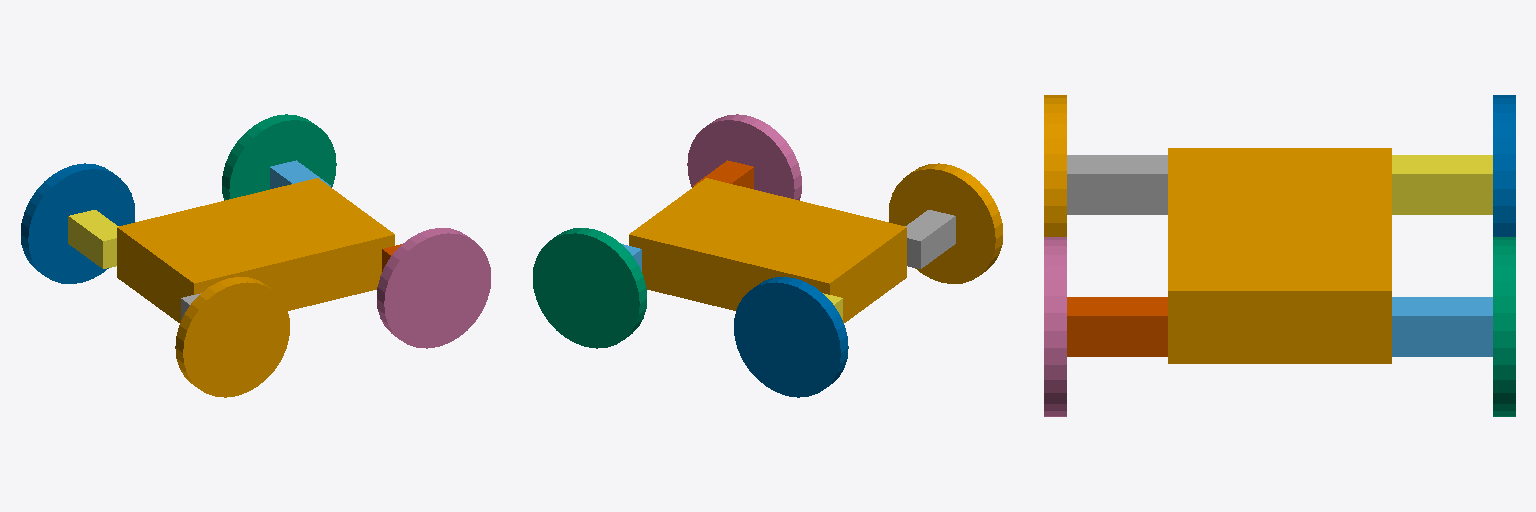
The robot description file, URDF, robot "edu_rover":
<?xml version = "1.0"?>
<robot name = "edu_rover">
    <link name = "base_link">
        <visual>
        <origin xyz ="0 0 0" rpy = "0 0 0"/>
        <geometry>
            <box size = "0.15 0.1 0.036"/>
        </geometry>
        </visual>
    </link>
<!-- left_front ()-[III]-()
                   [III]
                   [III]
                ()-[III]-()
-->
    <link name = "left_front_knuckle">
        <visual>
        <origin xyz = "0 0.025 0" rpy = "0 0 0"/>
        <geometry>
            <box size = "0.02 0.05 0.02" />
        </geometry>
        </visual>
    </link>

    <joint name = "left_front_knuckle_joint" type = "revolute">
        <parent link = "base_link"/>
        <child link = "left_front_knuckle"/>
        <origin xyz = "0.075 0.05 0" rpys = "0 0 0 "/>
        <limit lower = "-1.5708" upper = "0.52" effort = "1" velocity = "0.005"/>
        <axis xyz = "0 0 1"/> 
    </joint>

    <link name = "left_front_wheel">
    <visual>
    <origin xyz = "0 0 0" rpy = "1.5708 0 0"/>
    <geometry>
        <cylinder radius = "0.04" length = "0.01"/>
    </geometry>
    </visual>
    </link>

    <joint name = "left_front_wheel_joint" type = "continuous">
    <parent link = "left_front_knuckle"/>
    <child link = "left_front_wheel"/>
    <origin xyz = "0 0.05 0" rpy = "0 0 0" />
    <limit effort = "1" velocity = "0.05" />
    <axis xyz = " 0 1 0"/>
    </joint>

    <!--        ()-[III]-()
                   [III]
                   [III]
      left_front()-[III]-()
-->
    <link name = "left_back_knuckle">
        <visual>
        <origin xyz = "0 0.025 0" rpy = "0 0 0"/>
        <geometry>
            <box size = "0.02 0.05 0.02" />
        </geometry>
        </visual>
    </link>

    <joint name = "left_back_knuckle_joint" type = "revolute">
        <parent link = "base_link"/>
        <child link = "left_back_knuckle"/>
        <origin xyz = "-0.075 0.05 0" rpys = "0 0 0"/>
        <limit lower = "1.5708" upper = "-0.52" effort = "1" velocity = "0.005"/>
        <axis xyz = "0 0 1"/> 
    </joint>

    <link name = "left_back_wheel">
    <visual>
    <origin xyz = "0 0 0" rpy = "1.5708 0 0"/>
    <geometry>
        <cylinder radius = "0.04" length = "0.01"/>
    </geometry>
    </visual>
    </link>

    <joint name = "left_back_wheel_joint" type = "continuous">
    <parent link = "left_back_knuckle"/>
    <child link = "left_back_wheel"/>
    <origin xyz = "0 0.05 0" rpy = "0 0 0" />
    <limit effort = "1" velocity = "0.05" />
    <axis xyz = " 0 1 0"/>
    </joint>

    <!-- ()-[III]-()right_front 
            [III]
            [III]
         ()-[III]-()
-->
    <link name = "right_front_knuckle">
        <visual>
        <origin xyz = "0 -0.025 0" rpy = "0 0 0"/>
        <geometry>
            <box size = "0.02 0.05 0.02" />
        </geometry>
        </visual>
    </link>

    <joint name = "right_front_knuckle_joint" type = "revolute">
        <parent link = "base_link"/>
        <child link = "right_front_knuckle"/>
        <origin xyz = "0.075 -0.05 0" rpys = "0 0 0 "/>
        <limit lower = "1.5708" upper = "-0.52" effort = "1" velocity = "0.005"/>
        <axis xyz = "0 0 1"/> 
    </joint>

    <link name = "right_front_wheel">
    <visual>
    <origin xyz = "0 0 0" rpy = "1.5708 0 0"/>
    <geometry>
        <cylinder radius = "0.04" length = "0.01"/>
    </geometry>
    </visual>
    </link>

    <joint name = "right_front_wheel_joint" type = "continuous">
    <parent link = "right_front_knuckle"/>
    <child link = "right_front_wheel"/>
    <origin xyz = "0 -0.05 0" rpy = "0 0 0" />
    <limit effort = "1" velocity = "0.05" />
    <axis xyz = " 0 1 0"/>
    </joint>

    <!-- ()-[III]-()
            [III]
            [III]
         ()-[III]-()right_back 
-->
    <link name = "right_back_knuckle">
        <visual>
        <origin xyz = "0 -0.025 0" rpy = "0 0 0"/>
        <geometry>
            <box size = "0.02 0.05 0.02" />
        </geometry>
        </visual>
    </link>

    <joint name = "right_back_knuckle_joint" type = "revolute">
        <parent link = "base_link"/>
        <child link = "right_back_knuckle"/>
        <origin xyz = "-0.075 -0.05 0" rpys = "0 0 0"/>
        <limit lower = "-1.5708" upper = "0.52" effort = "1" velocity = "0.005"/>
        <axis xyz = "0 0 1"/> 
    </joint>

    <link name = "right_back_wheel">
    <visual>
    <origin xyz = "0 0 0" rpy = "1.5708 0 0"/>
    <geometry>
        <cylinder radius = "0.04" length = "0.01"/>
    </geometry>
    </visual>
    </link>

    <joint name = "right_back_wheel_joint" type = "continuous">
    <parent link = "right_back_knuckle"/>
    <child link = "right_back_wheel"/>
    <origin xyz = "0 -0.05 0" rpy = "0 0 0" />
    <limit effort = "1" velocity = "0.05" />
    <axis xyz = " 0 1 0"/>
    </joint>
</robot>

--- What the picture shows (computed from the rendered views, not written in the file) ---
The picture shows the robot from 3 angles, left to right: view 1: azimuth 30°, elevation 25°; view 2: azimuth 150°, elevation 25°; view 3: azimuth 270°, elevation 25°; orthographic projection.
Model edu_rover with 9 links and 8 joints (4 revolute, 4 continuous), rooted at base_link, posed every joint at zero.
Visible links, largest first — view 1: base_link, right_back_wheel, right_front_wheel, left_back_wheel, left_front_wheel, left_back_knuckle, left_front_knuckle; view 2: base_link, left_back_wheel, left_front_wheel, right_back_wheel, right_front_wheel, right_back_knuckle, right_front_knuckle; view 3: base_link, left_front_knuckle, left_back_knuckle, right_front_knuckle, right_back_knuckle, left_front_wheel, right_front_wheel, left_back_wheel, right_back_wheel.
Boxes of the visible links, box(x1,y1,x2,y2) form: base_link: box(117, 178, 394, 322); right_back_wheel: box(175, 277, 289, 397); right_front_wheel: box(377, 228, 490, 348); left_back_wheel: box(21, 163, 134, 283); left_front_wheel: box(222, 114, 336, 200); left_back_knuckle: box(68, 210, 118, 268); left_front_knuckle: box(270, 160, 330, 188); base_link: box(629, 178, 906, 322); left_back_wheel: box(734, 277, 848, 397); left_front_wheel: box(533, 228, 646, 348); right_back_wheel: box(889, 163, 1002, 283); right_front_wheel: box(687, 114, 801, 200); right_back_knuckle: box(905, 210, 955, 268); right_front_knuckle: box(693, 160, 753, 188); base_link: box(1168, 148, 1391, 363); left_front_knuckle: box(1392, 297, 1492, 356); left_back_knuckle: box(1392, 155, 1492, 214); right_front_knuckle: box(1067, 297, 1167, 356); right_back_knuckle: box(1067, 155, 1167, 214); left_front_wheel: box(1493, 237, 1515, 416); right_front_wheel: box(1044, 237, 1066, 416); left_back_wheel: box(1493, 95, 1515, 236); right_back_wheel: box(1044, 95, 1066, 236).
Bounding box of the posed robot: 0.23 × 0.21 × 0.08 m (x, y, z).
Geometry: primitives only (box / cylinder / sphere), no mesh files.